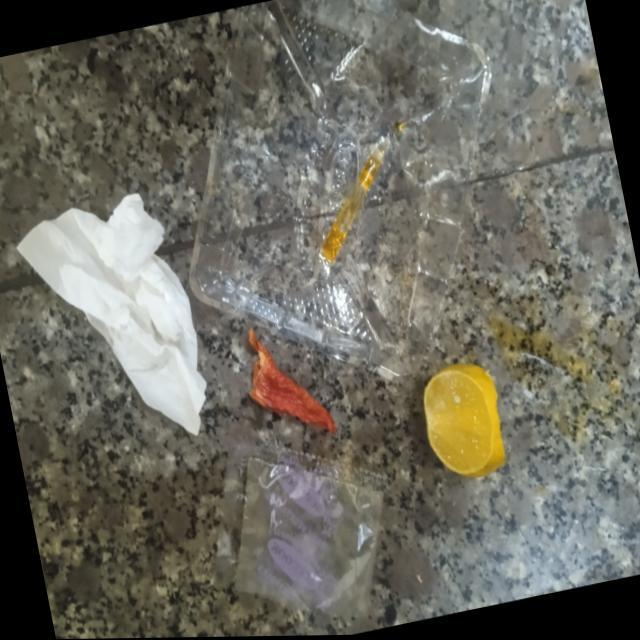fabric: (394, 332, 532, 533)
food: (0, 132, 242, 484)
leaf: (135, 0, 548, 422), (193, 403, 414, 638)
